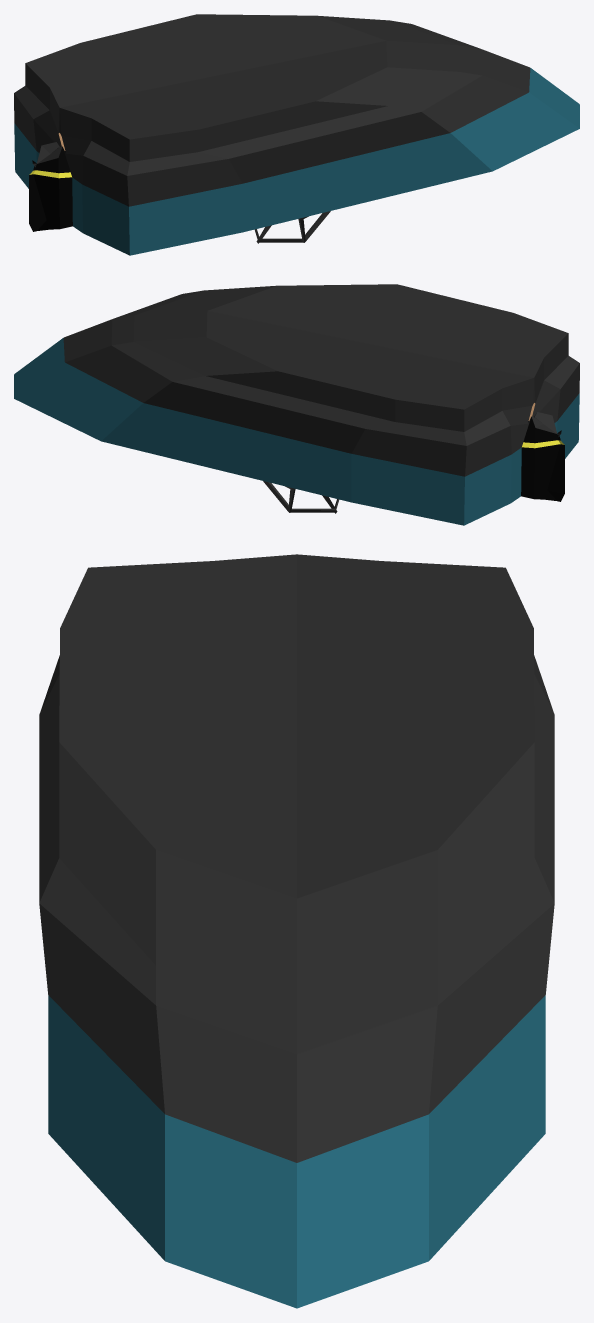
Rendered from boat.glb.
3 views of the same model, one above another, from view 1: azimuth 30°, elevation 25°; view 2: azimuth 150°, elevation 25°; view 3: azimuth 270°, elevation 25° (orthographic). The views are drawn at different scales.
Visible parts, largest first — view 1: Cube; view 2: Cube; view 3: Cube.
Boxes of the visible parts, x1,y1,x2,y2 form: Cube: [14, 14, 579, 255]; Cube: [14, 284, 579, 525]; Cube: [39, 554, 554, 1308].
Size of the model in its own units: 8.23 by 2.67 by 3.34.
